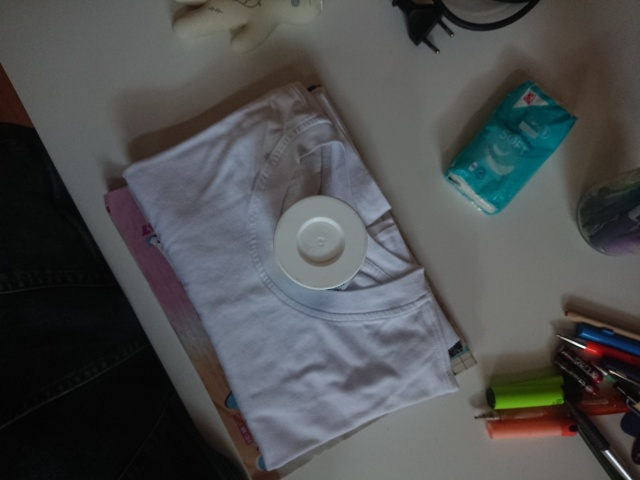Solana Pag Fine Sea Salt 250g: (271, 192, 370, 292)
